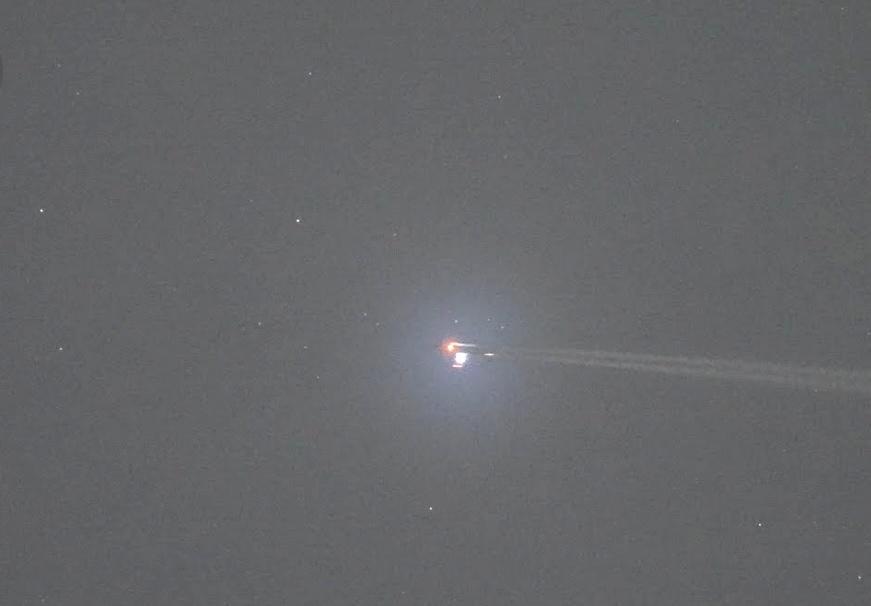Plane: (417, 326, 502, 381)
